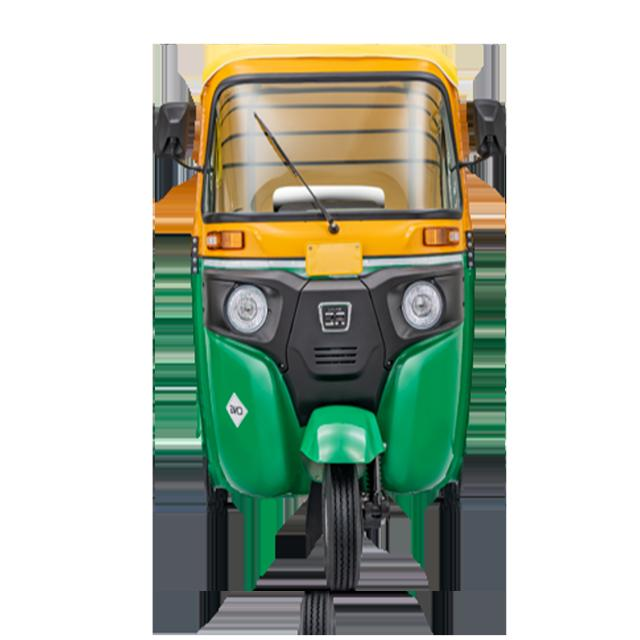autorickshaw: (155, 46, 505, 591)
